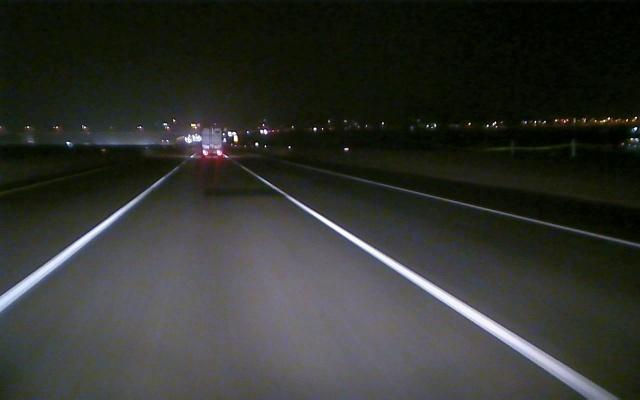lane: (261, 179, 614, 395), (3, 180, 162, 311), (367, 179, 640, 248), (0, 166, 113, 195)
